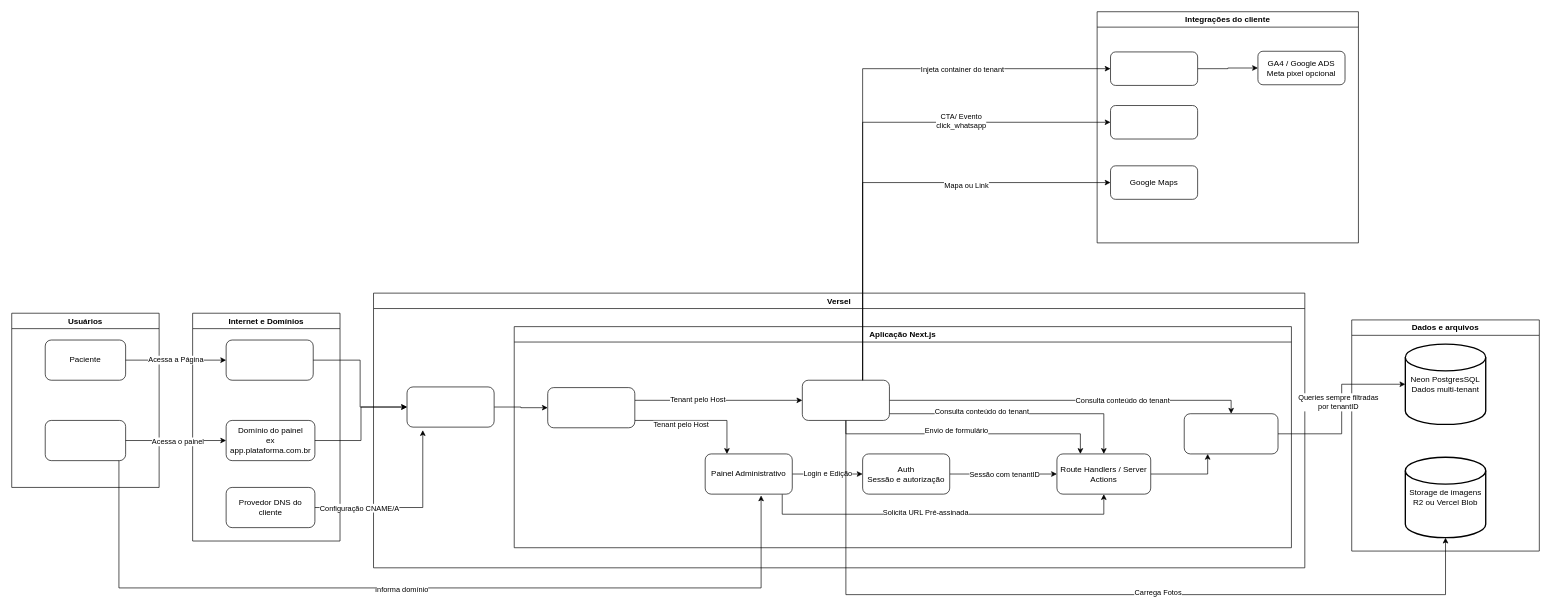
Image size: 1551x612. Some labels were removed from this diagram. The shapes that lost their labels are listed below. From the top down, each one's centre as x and y in pixels, then its label:
At [1154,68]: "Google Tag Manager".
At [1154,122]: "Whatsapp".
At [269,359]: "Domínio do psicólogo ex: psicologaana.com.br".
At [450,406]: "CND + HTTPS/SSL Versel Domains".
At [591,407]: "Middleware Lê Host e resolve tenant".
At [845,400]: "Landing page pública Server components".
At [85,440]: "Psicólogo".
At [1231,433]: "Services - Repositories tenant-aware".
